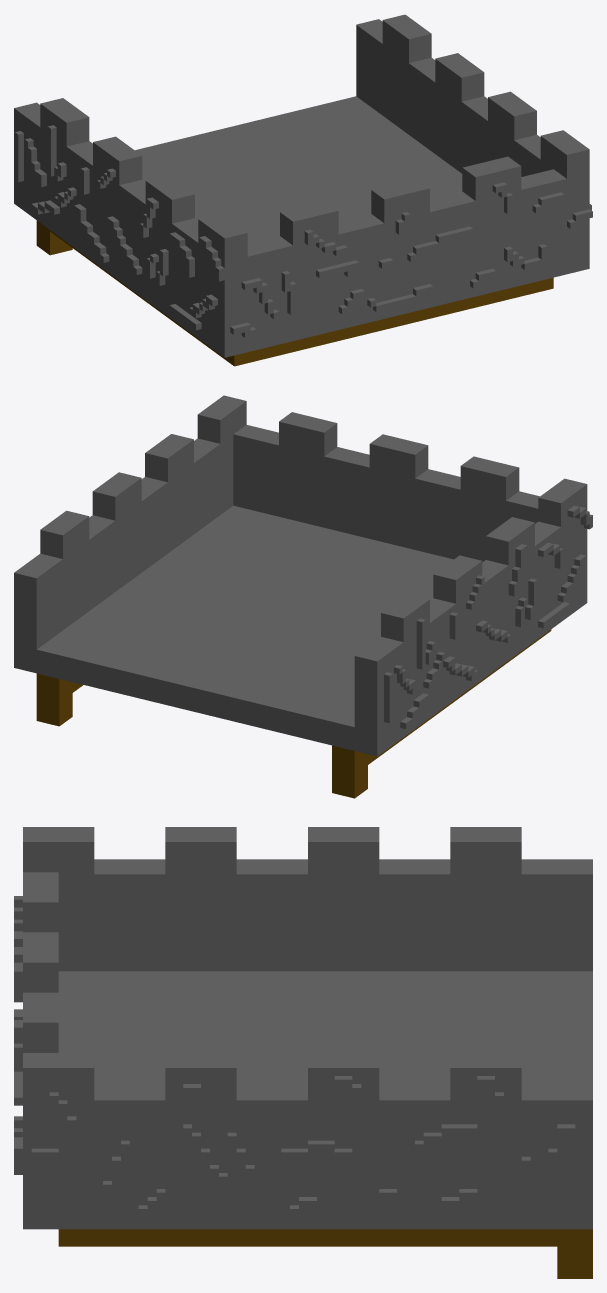
File: CastleBalcony.obj
3 views of the same model, one above another, from view 1: azimuth 30°, elevation 25°; view 2: azimuth 150°, elevation 25°; view 3: azimuth 270°, elevation 25° (orthographic). The views are drawn at different scales.
Size of the model in its own units: 6.6 by 2.8 by 6.5.
Materials: 1 (1 with a texture image).
